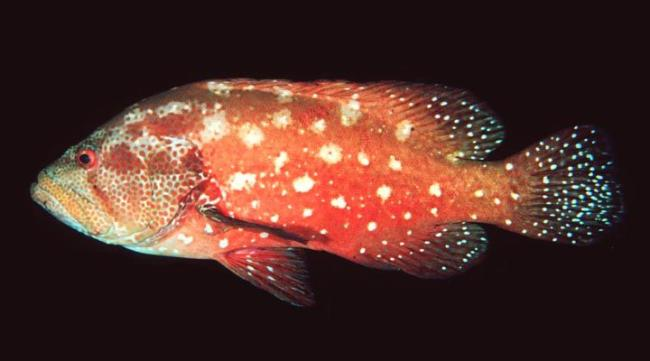fish: (30, 78, 624, 308)
